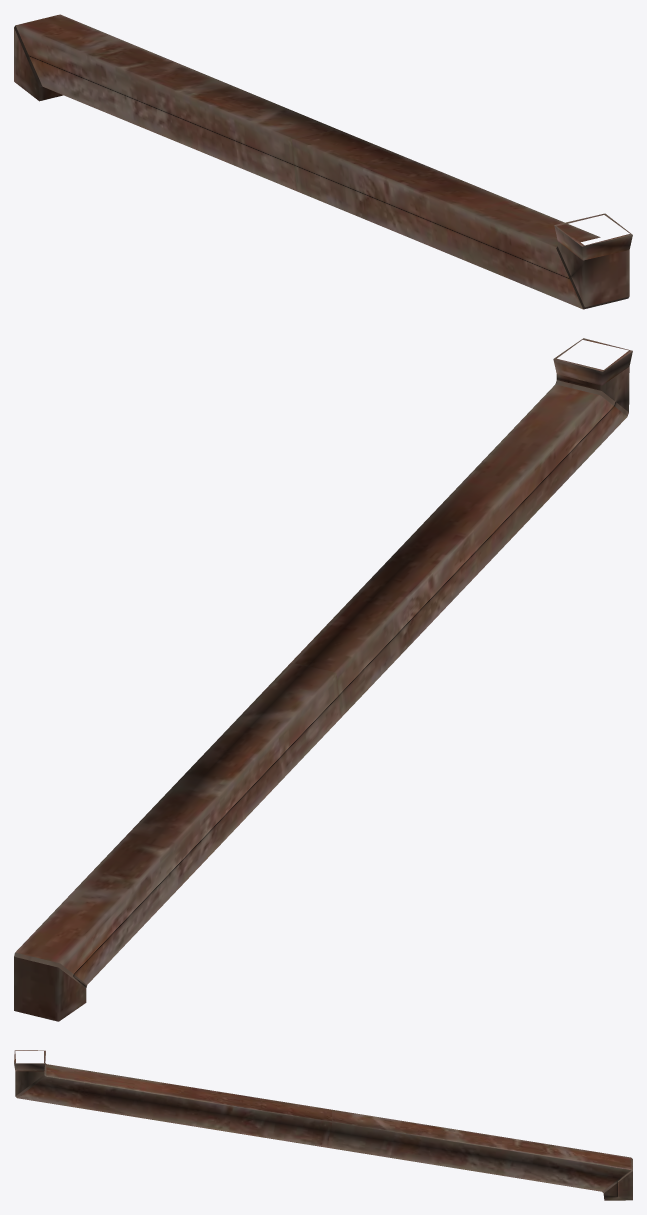
Rendered from gutter_overhang_2000.glb.
3 views of the same model, one above another, from view 1: azimuth 30°, elevation 25°; view 2: azimuth 150°, elevation 25°; view 3: azimuth 270°, elevation 25° (orthographic). The views are drawn at different scales.
Parts seen in each view (by area): view 1: gutter_overhang_2000; view 2: gutter_overhang_2000; view 3: gutter_overhang_2000.
Boxes of the visible parts, bbox=[...] form: gutter_overhang_2000: bbox=[14, 14, 632, 309]; gutter_overhang_2000: bbox=[14, 338, 632, 1021]; gutter_overhang_2000: bbox=[14, 1050, 632, 1200].
Size of the model in its own units: 0.1092 by 0.5156 by 2.1.
Materials: 1 (1 with a texture image).
